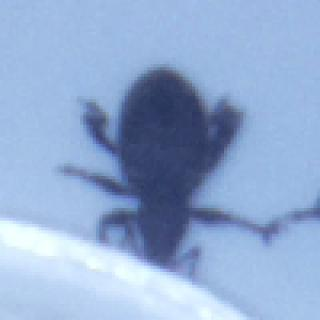bvw: (61, 67, 317, 278)
